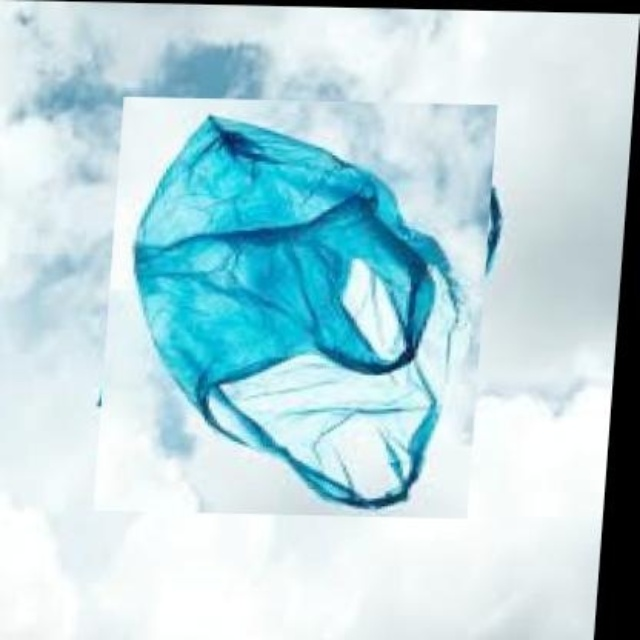trash: (97, 98, 498, 514)
